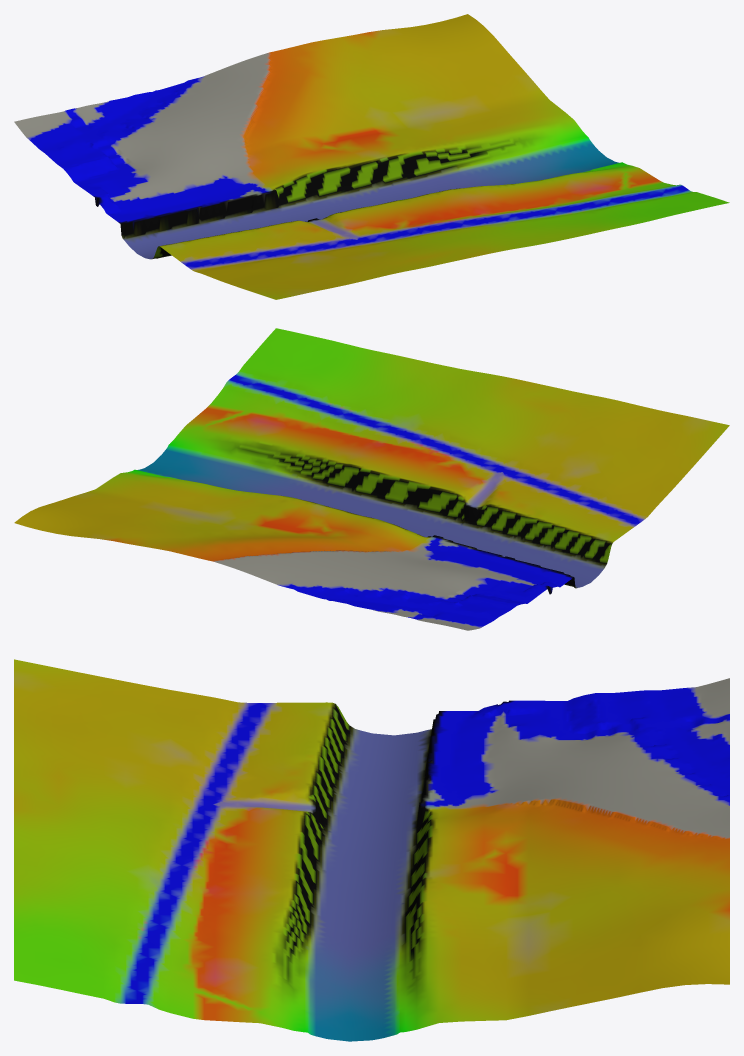
File: SM_BM_BT_Terrain_4_1.glb
3 views of the same model, one above another, from view 1: azimuth 30°, elevation 25°; view 2: azimuth 150°, elevation 25°; view 3: azimuth 270°, elevation 25° (orthographic). The views are drawn at different scales.
Visible parts, largest first — view 1: SM_BM_BT_Terrain_4_1; view 2: SM_BM_BT_Terrain_4_1; view 3: SM_BM_BT_Terrain_4_1.
Boxes of the visible parts, x1,y1,x2,y2 form: SM_BM_BT_Terrain_4_1: [14, 14, 729, 299]; SM_BM_BT_Terrain_4_1: [14, 328, 729, 630]; SM_BM_BT_Terrain_4_1: [14, 659, 729, 1041].
Bounding box in the file's own units: 256 × 31.43 × 256.
